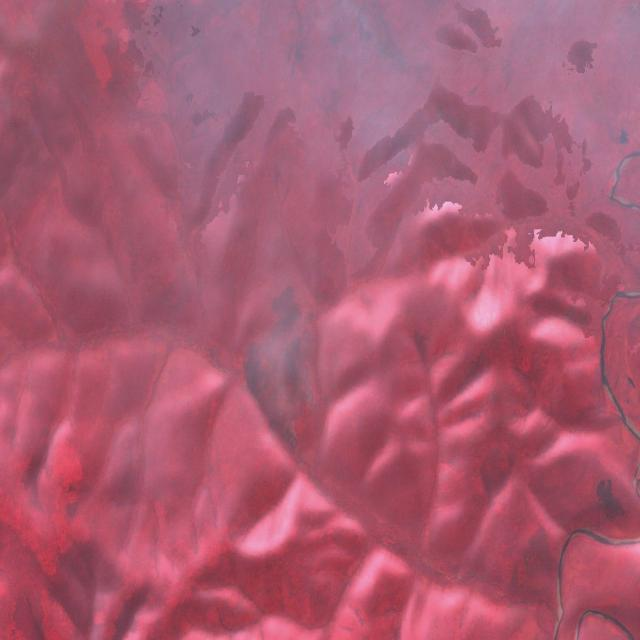fire: (278, 391, 324, 454)
